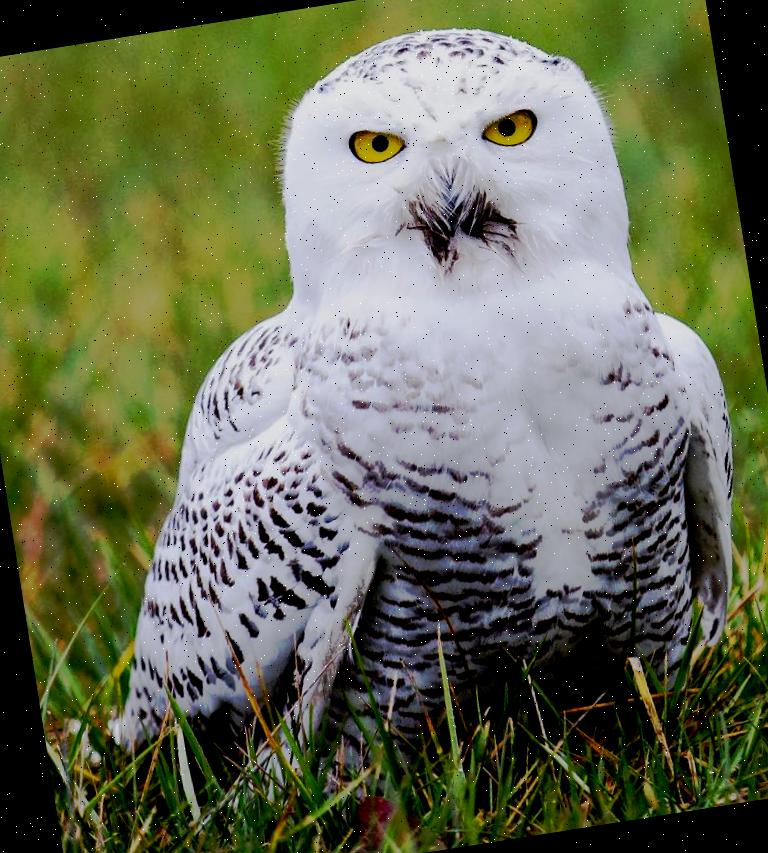Owl: (24, 0, 768, 820)
